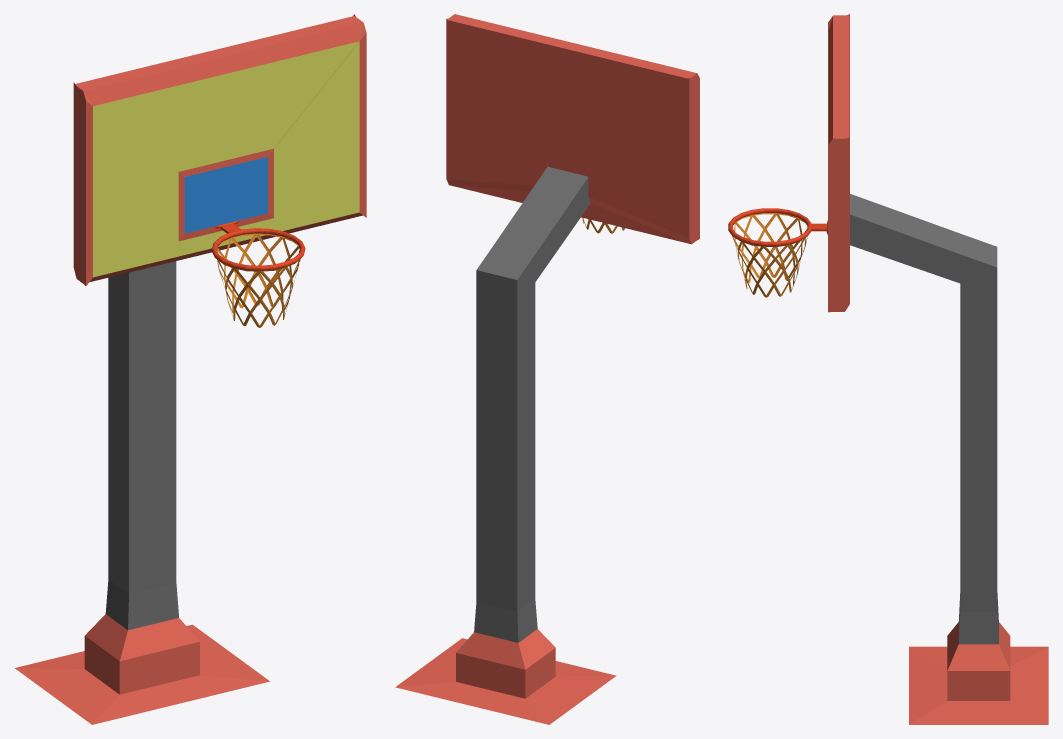
Rendered from Tiang Basket.fbx.
The picture shows the model from 3 angles, left to right: view 1: azimuth 30°, elevation 25°; view 2: azimuth 150°, elevation 25°; view 3: azimuth 270°, elevation 25°; orthographic projection. The views are drawn at different scales.
Parts seen in each view (by area): view 1: Cube, Torus.001, Torus; view 2: Cube; view 3: Cube, Torus.001, Torus.
Boxes of the visible parts, x1,y1,x2,y2 form: Cube: [15, 14, 366, 724]; Torus.001: [217, 233, 300, 327]; Torus: [211, 220, 305, 270]; Cube: [395, 14, 699, 724]; Cube: [828, 14, 1048, 724]; Torus.001: [732, 213, 807, 297]; Torus: [728, 208, 827, 246].
Size of the model in its own units: 604 by 1398 by 665.
